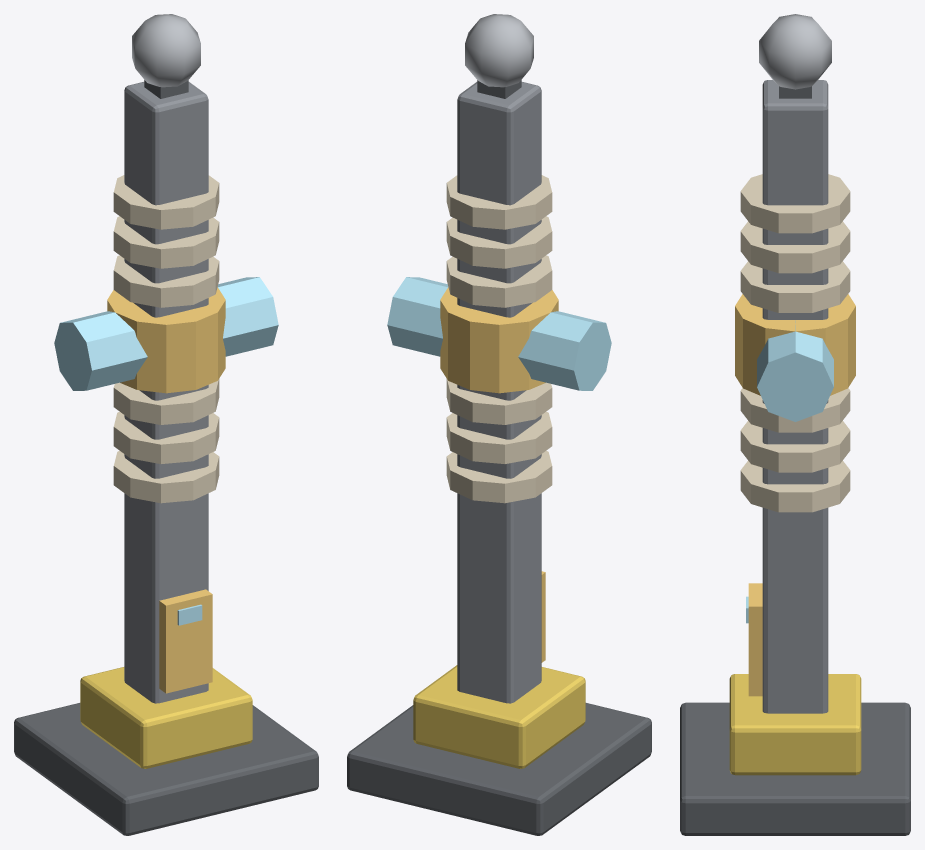
Rendered from eng_arc_post.fbx.
3 renders of one model, left to right at view 1: azimuth 30°, elevation 25°; view 2: azimuth 150°, elevation 25°; view 3: azimuth 270°, elevation 25°, orthographic. The views are drawn at different scales.
Parts seen in each view (by area): view 1: eng_arc_post; view 2: eng_arc_post; view 3: eng_arc_post.
Part boxes in pixels (left/top/right/bottom): eng_arc_post: left=14, top=14, right=318, bottom=835; eng_arc_post: left=347, top=14, right=651, bottom=835; eng_arc_post: left=680, top=14, right=910, bottom=835.
Bounding box in the file's own units: 0.42 × 1.55 × 0.42.
